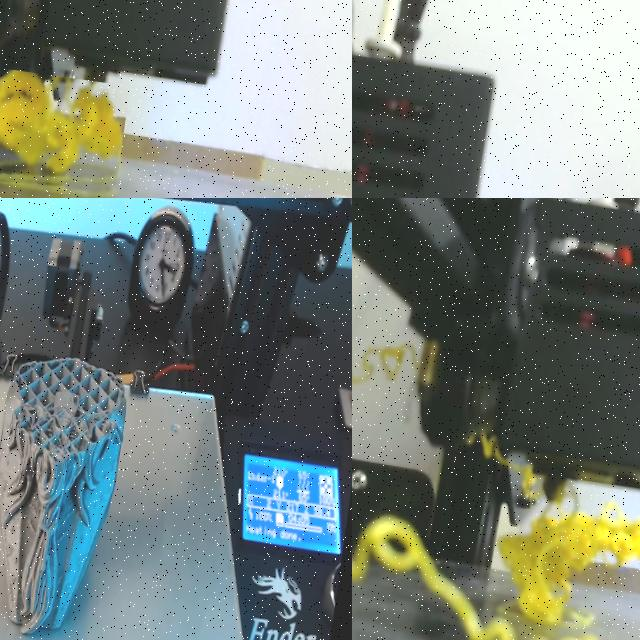spaghetti: (352, 515, 515, 640), (500, 503, 640, 626), (0, 70, 122, 187), (362, 347, 407, 377)
